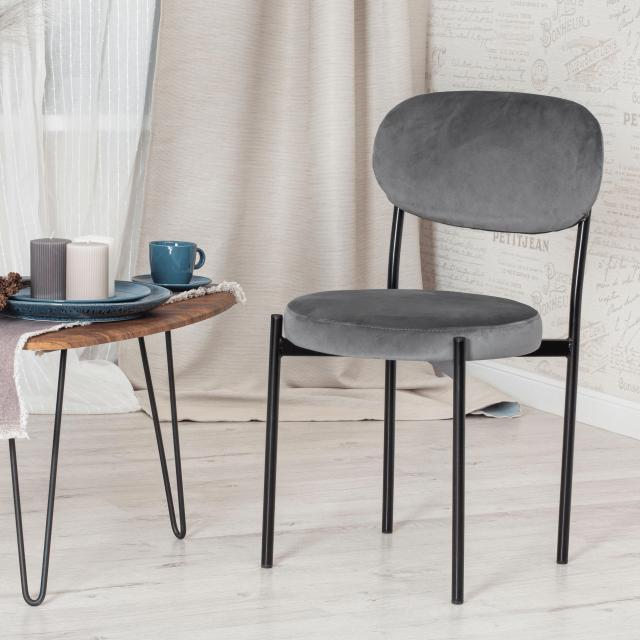chair: (256, 86, 611, 610), (258, 76, 600, 382)
